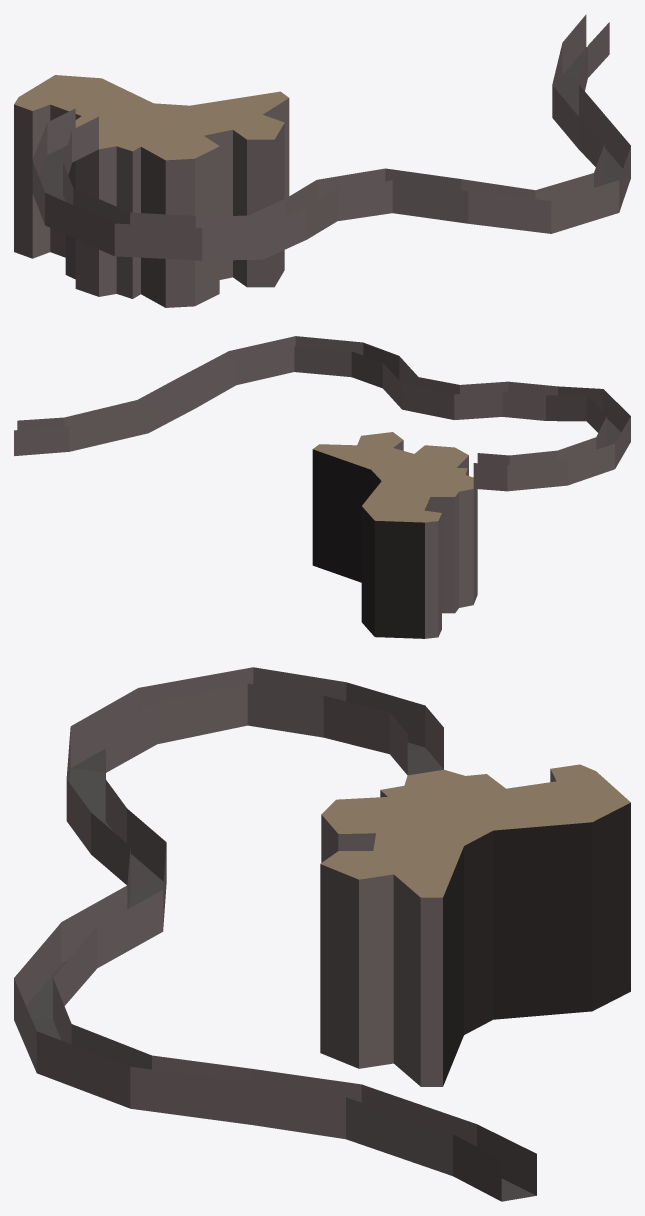
The model's file is boneBridgeLandingB.gltf.
3 views of the same model, one above another, from view 1: azimuth 30°, elevation 25°; view 2: azimuth 150°, elevation 25°; view 3: azimuth 270°, elevation 25° (orthographic). The views are drawn at different scales.
Visible parts, largest first — view 1: boneBridgeLanding; view 2: boneBridgeLanding; view 3: boneBridgeLanding.
Part boxes in pixels (bbox=[...]): boneBridgeLanding: bbox=[14, 14, 630, 307]; boneBridgeLanding: bbox=[14, 336, 630, 638]; boneBridgeLanding: bbox=[14, 667, 630, 1201].
Size of what is drawn, in the model's own units: 84.42 by 22 by 53.21.
Materials: 1 (1 with a texture image).
